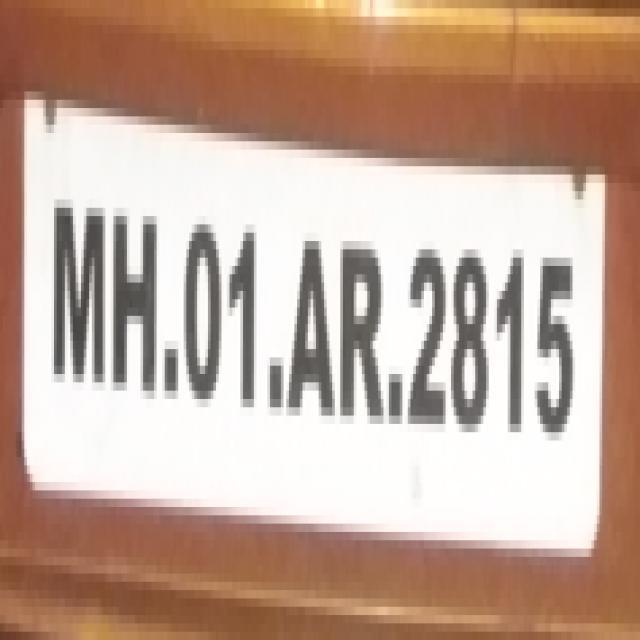0: (176, 202, 222, 411)
1: (494, 244, 530, 446), (226, 220, 260, 418)
5: (532, 234, 580, 426)
8: (449, 232, 494, 427)
A: (286, 230, 339, 440)
H: (110, 192, 156, 360)
M: (46, 188, 108, 408)
R: (335, 242, 390, 444)
